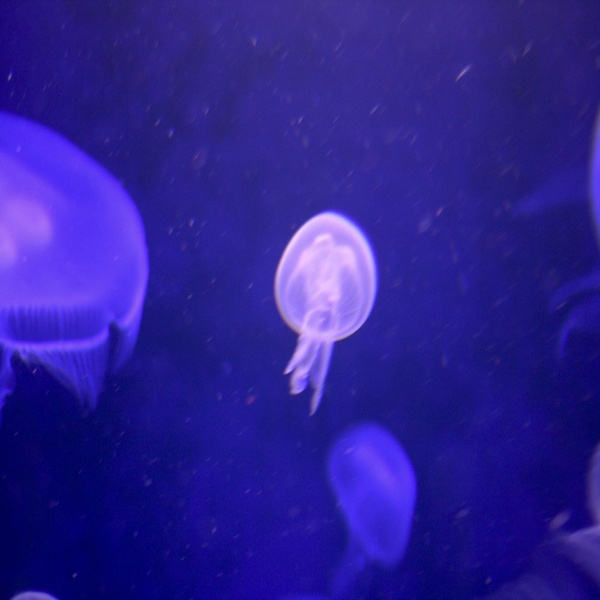Jellyfish: (0, 108, 148, 419), (512, 105, 600, 355), (272, 211, 377, 416), (325, 416, 418, 600), (547, 442, 600, 585), (9, 590, 57, 600)
